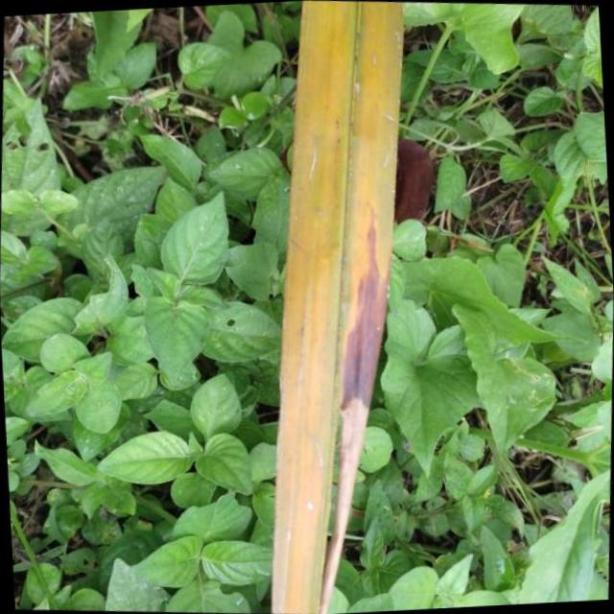Megnesium: (275, 0, 400, 614)
